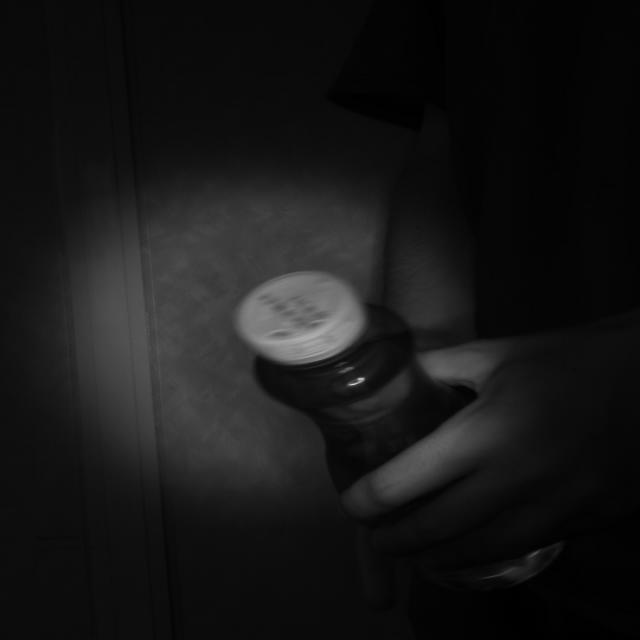Good: (232, 267, 370, 367)
